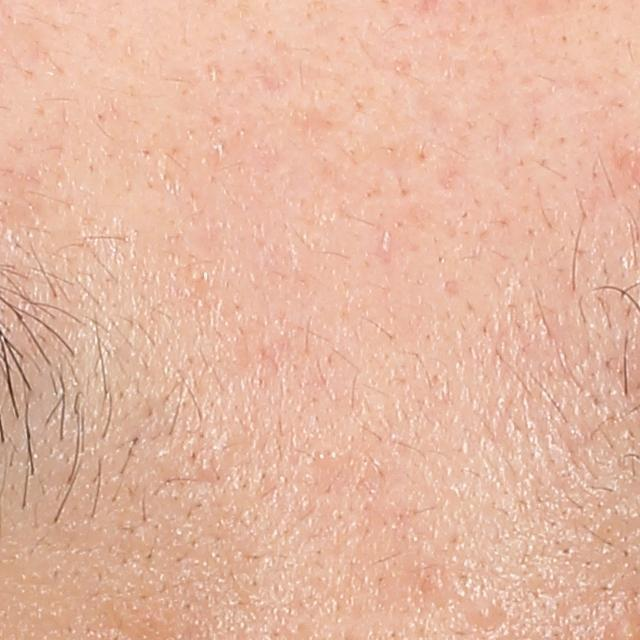comedo: (466, 600, 499, 632)
